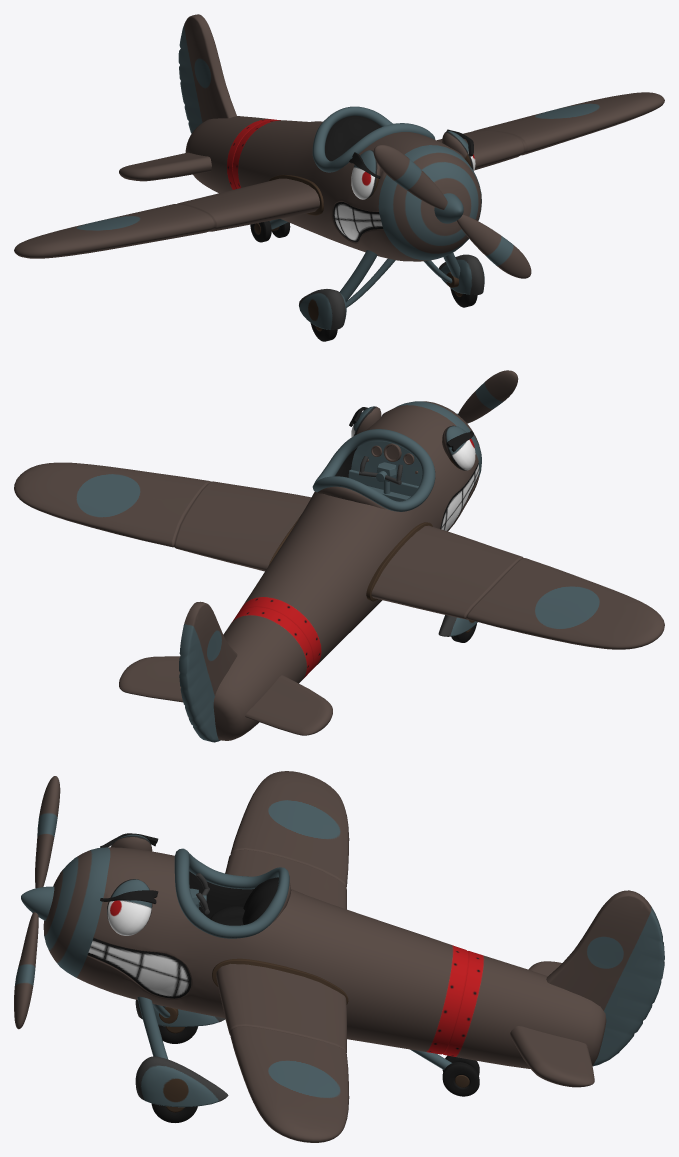
The model's file is airplane_comic.fd060f3c.glb.
The picture shows the model from 3 angles, top to bottom: view 1: azimuth 30°, elevation 25°; view 2: azimuth 150°, elevation 25°; view 3: azimuth 270°, elevation 25°; orthographic projection. The views are drawn at different scales.
Parts seen in each view (by area): view 1: node_id30; view 2: node_id30; view 3: node_id30.
Boxes of the visible parts, x1,y1,x2,y2 form: node_id30: [14, 14, 664, 341]; node_id30: [14, 370, 664, 742]; node_id30: [14, 771, 664, 1142].
Bounding box in the file's own units: 0.512 × 0.1813 × 0.3875.
1 material, 1 textured.
